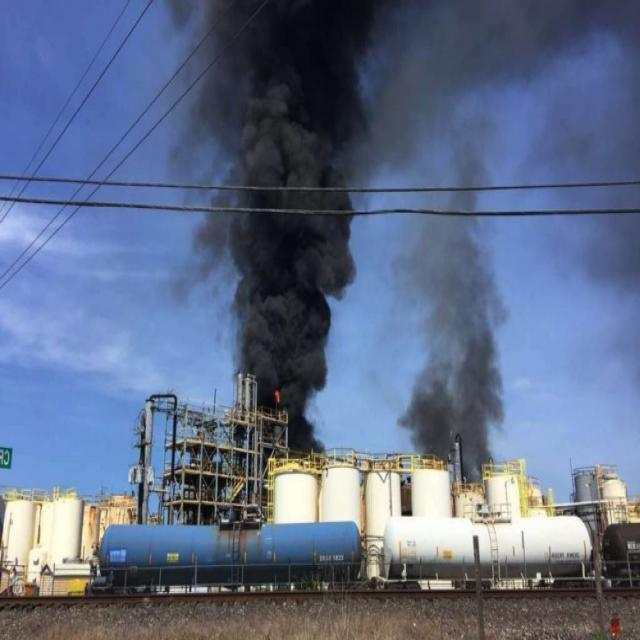fire: (274, 384, 281, 406)
